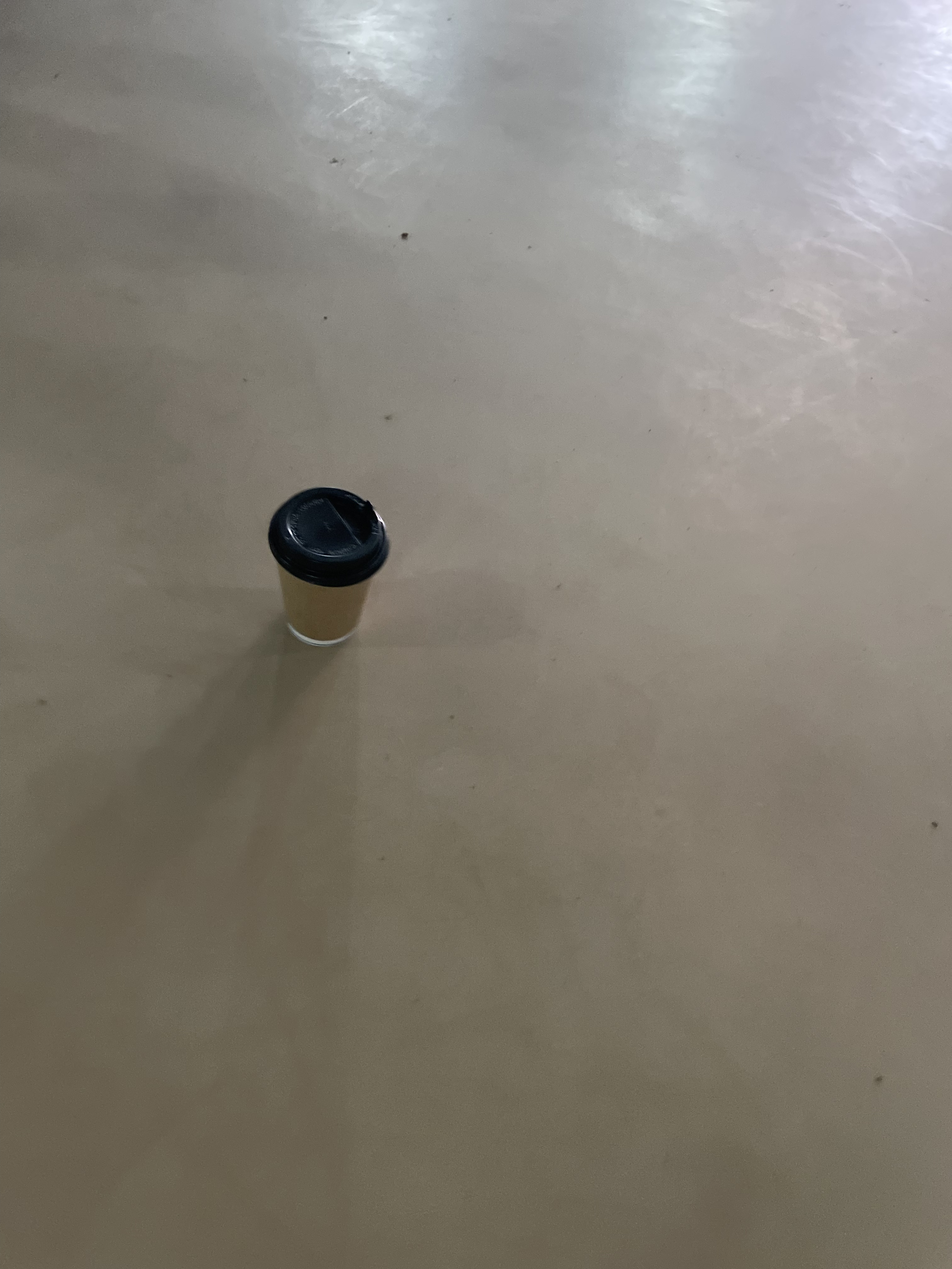cup: (268, 487, 390, 646)
